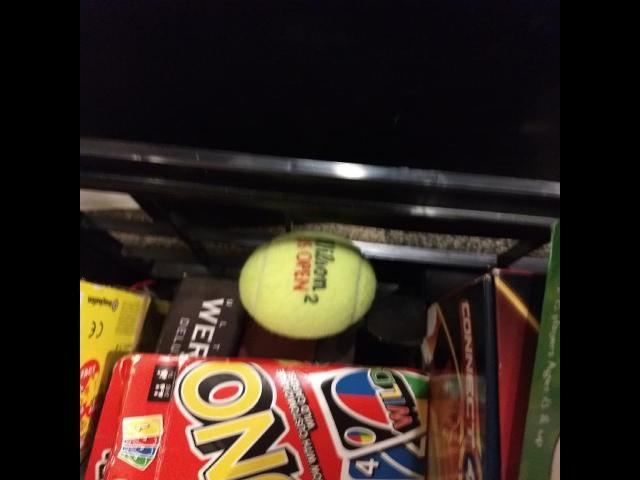tennis-ball: (238, 228, 378, 340)
